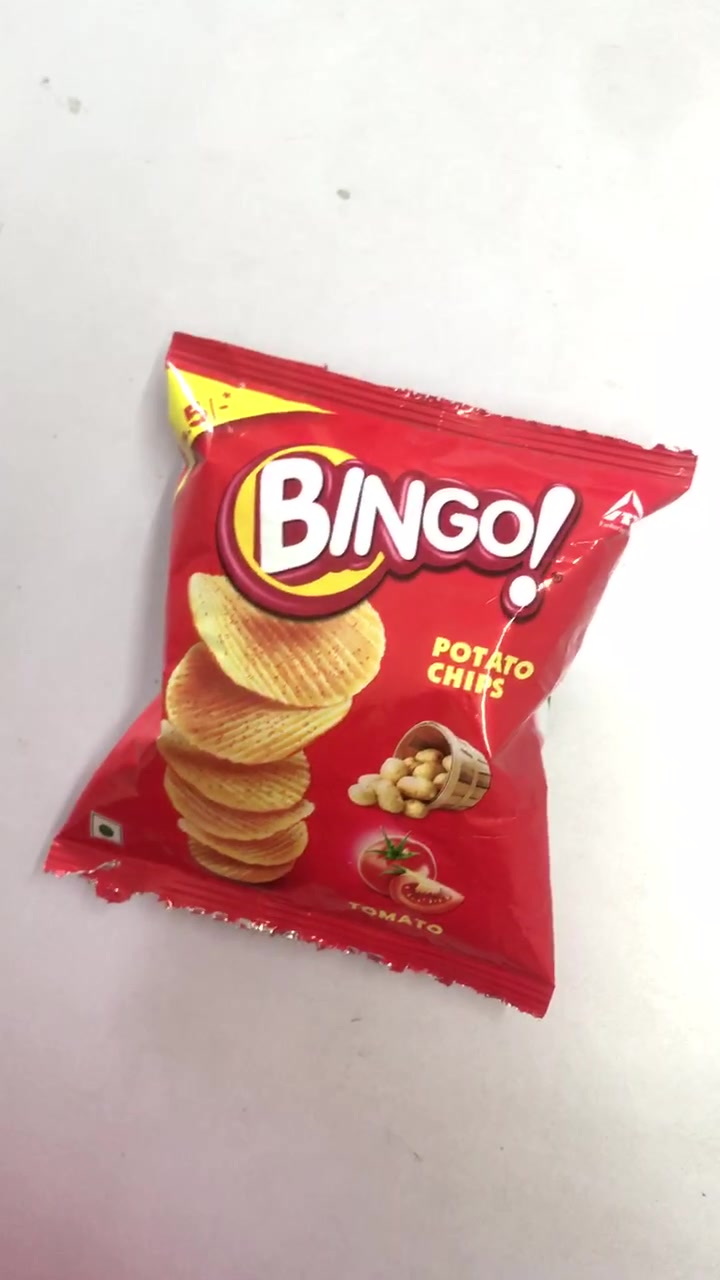Bingo: (45, 337, 695, 1012)
